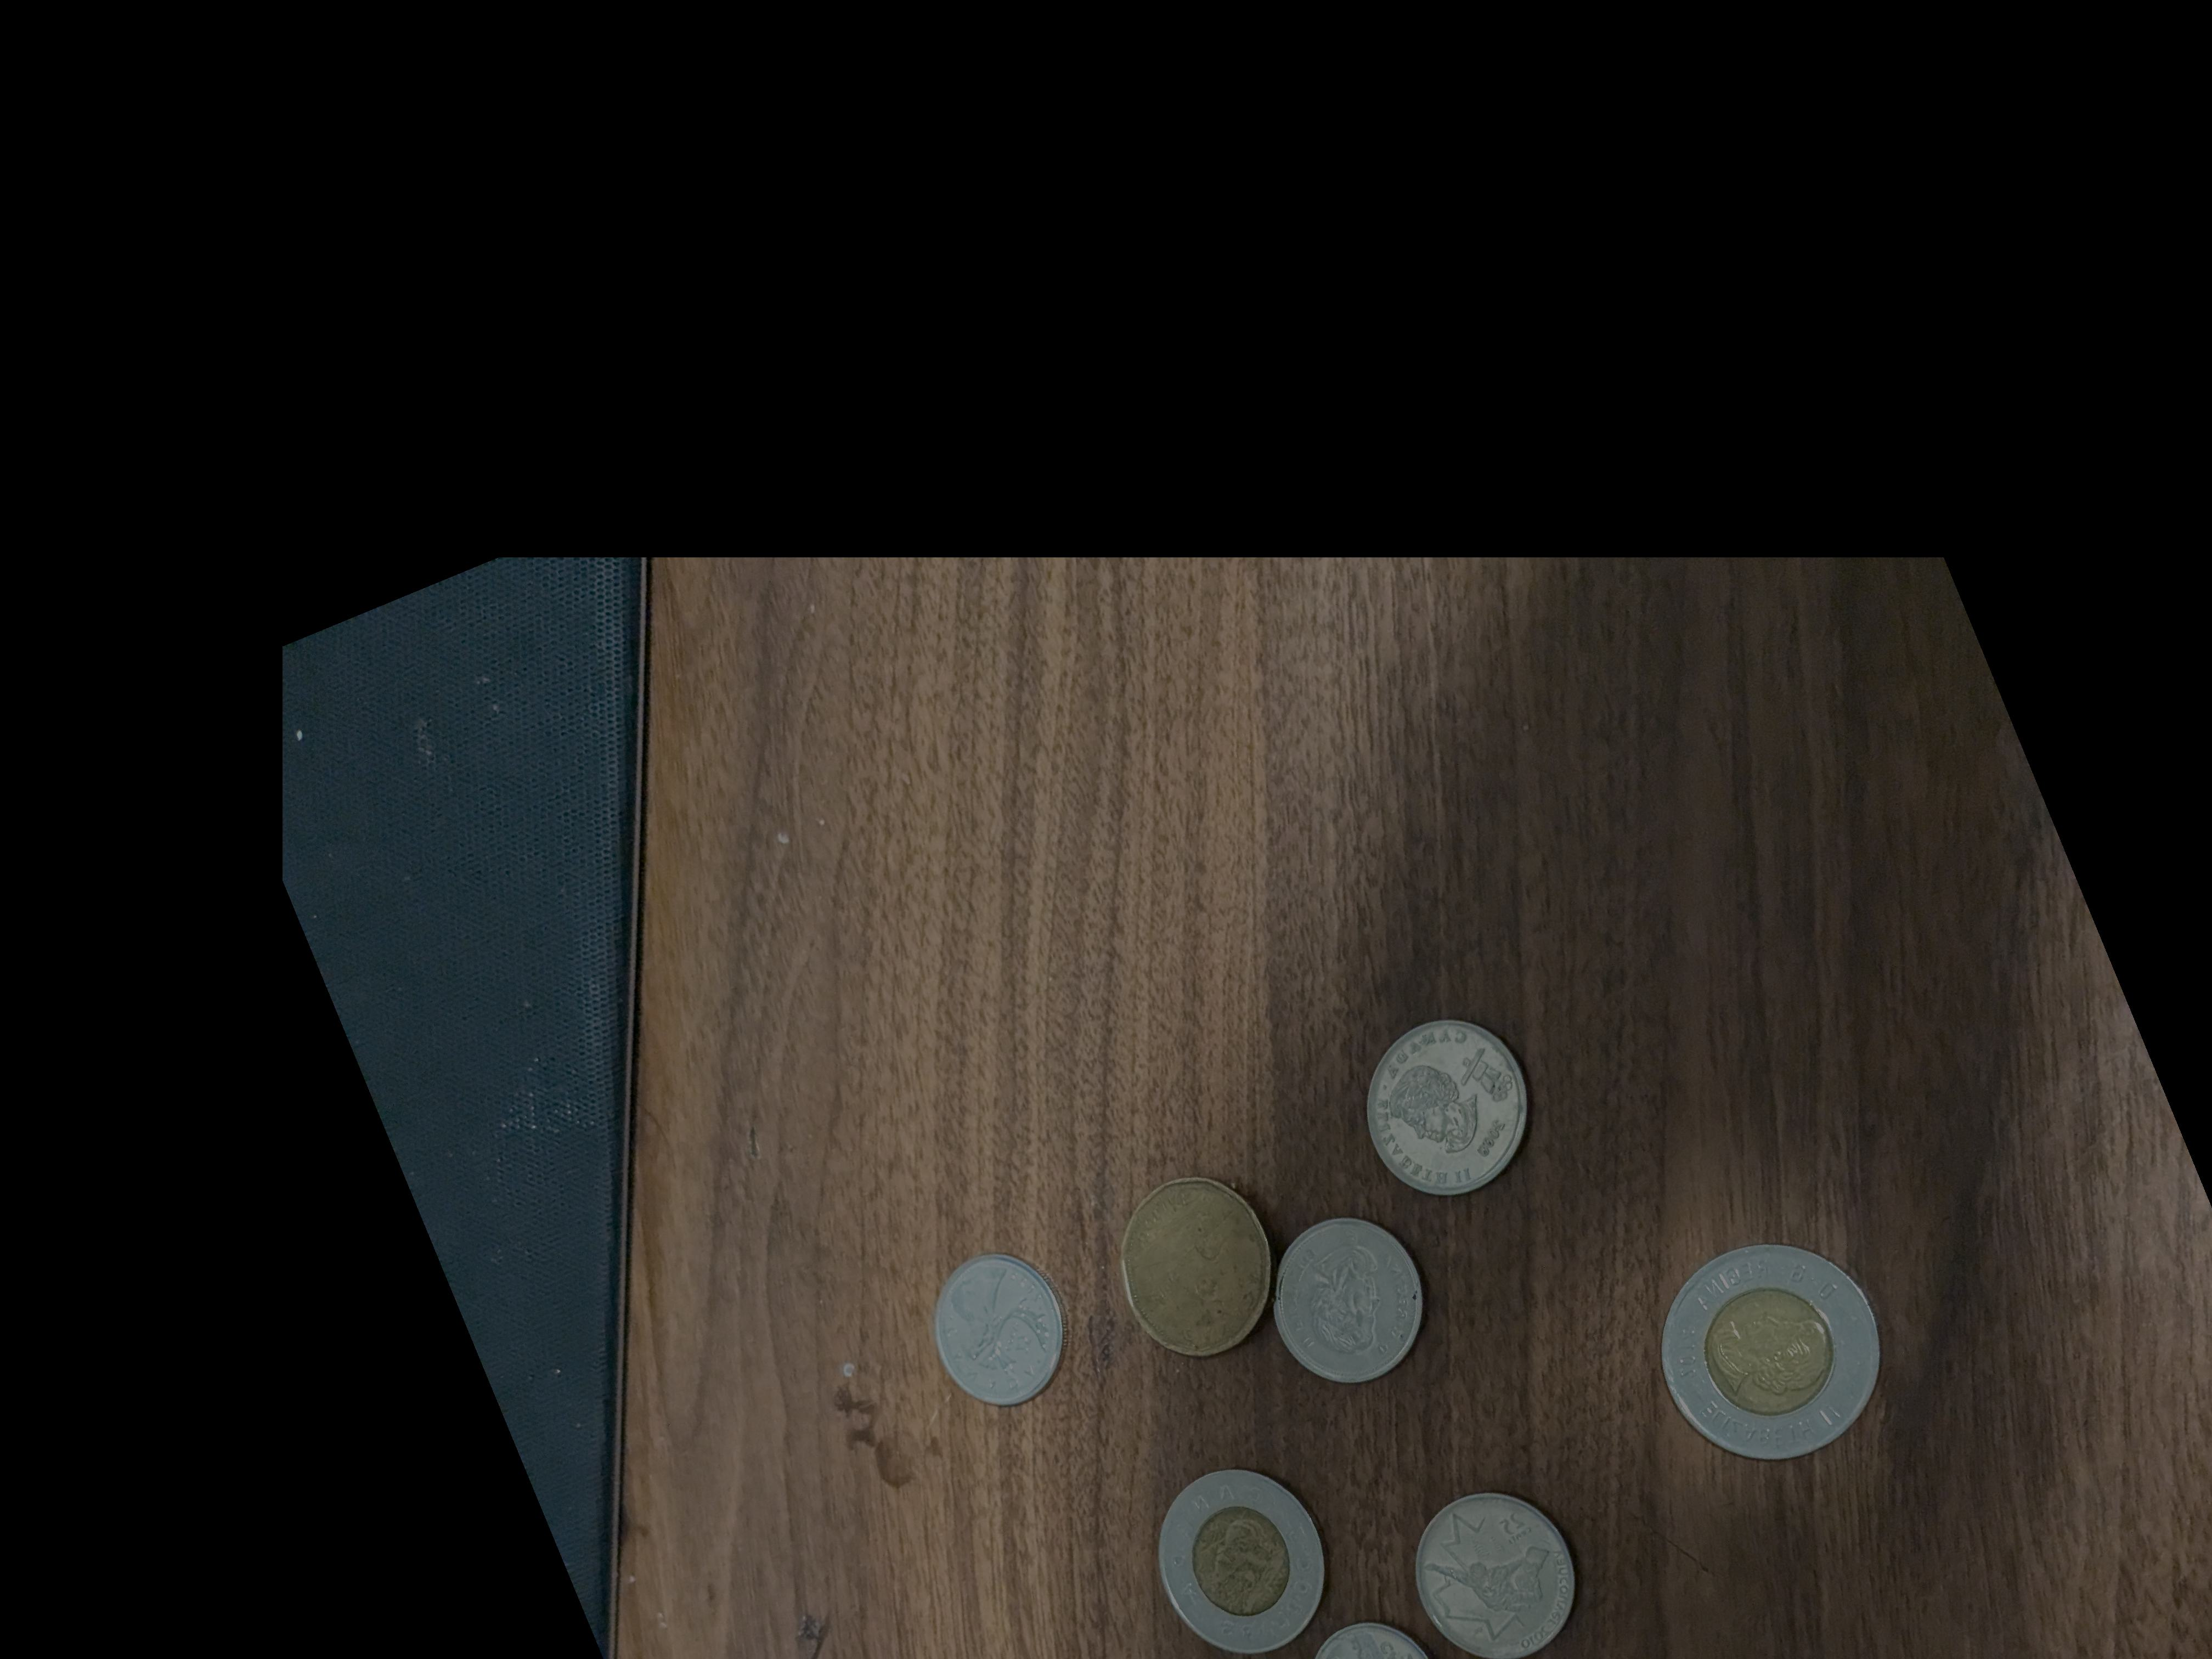loonie: (1120, 1180, 1270, 1356)
quarter: (1369, 1011, 1529, 1195), (1411, 1486, 1578, 1654), (1278, 1220, 1426, 1385), (930, 1255, 1068, 1410)
toonie: (1663, 1244, 1883, 1457), (1158, 1466, 1325, 1652)
